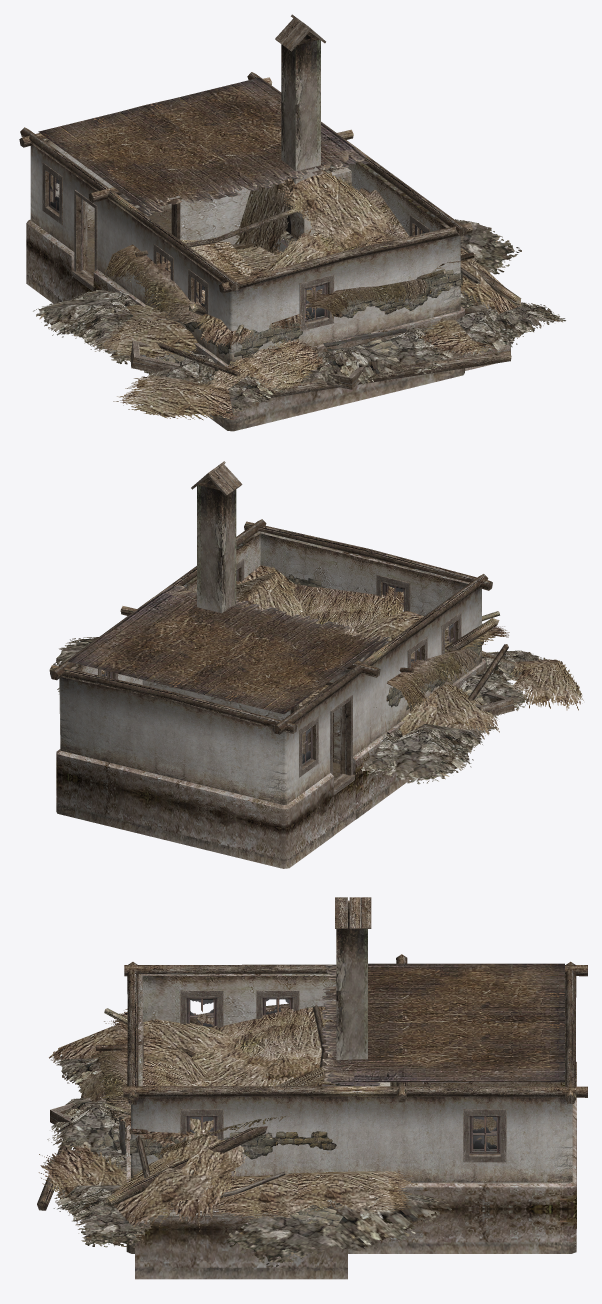
File: Hutor_far_dam.FBX
3 views of the same model, one above another, from view 1: azimuth 30°, elevation 25°; view 2: azimuth 150°, elevation 25°; view 3: azimuth 270°, elevation 25° (orthographic). The views are drawn at different scales.
Parts seen in each view (by area): view 1: x0y0_dam1_l0, x0y1_dam0_l0, x0y0_dam0_l0, x0y0_dam1_l1; view 2: x0y1_dam0_l0, x0y0_dam0_l0, x0y0_dam1_l0, x0y0_dam1_l1; view 3: x0y1_dam0_l0, x0y0_dam1_l0, x0y0_dam0_l0, x0y0_dam1_l1.
Part boxes in pixels (x1,y1,x2,y2): x0y0_dam1_l0: [74, 164, 565, 431]; x0y1_dam0_l0: [19, 72, 369, 303]; x0y0_dam0_l0: [121, 14, 472, 430]; x0y0_dam1_l1: [33, 168, 511, 430]; x0y1_dam0_l0: [49, 585, 390, 868]; x0y0_dam0_l0: [156, 461, 492, 793]; x0y0_dam1_l0: [53, 565, 583, 794]; x0y0_dam1_l1: [287, 574, 519, 788]; x0y1_dam0_l0: [322, 954, 587, 1253]; x0y0_dam1_l0: [37, 1005, 453, 1279]; x0y0_dam0_l0: [123, 897, 390, 1251]; x0y0_dam1_l1: [47, 1003, 413, 1279].
Size of the model in its own units: 13.13 by 7.26 by 11.7.
